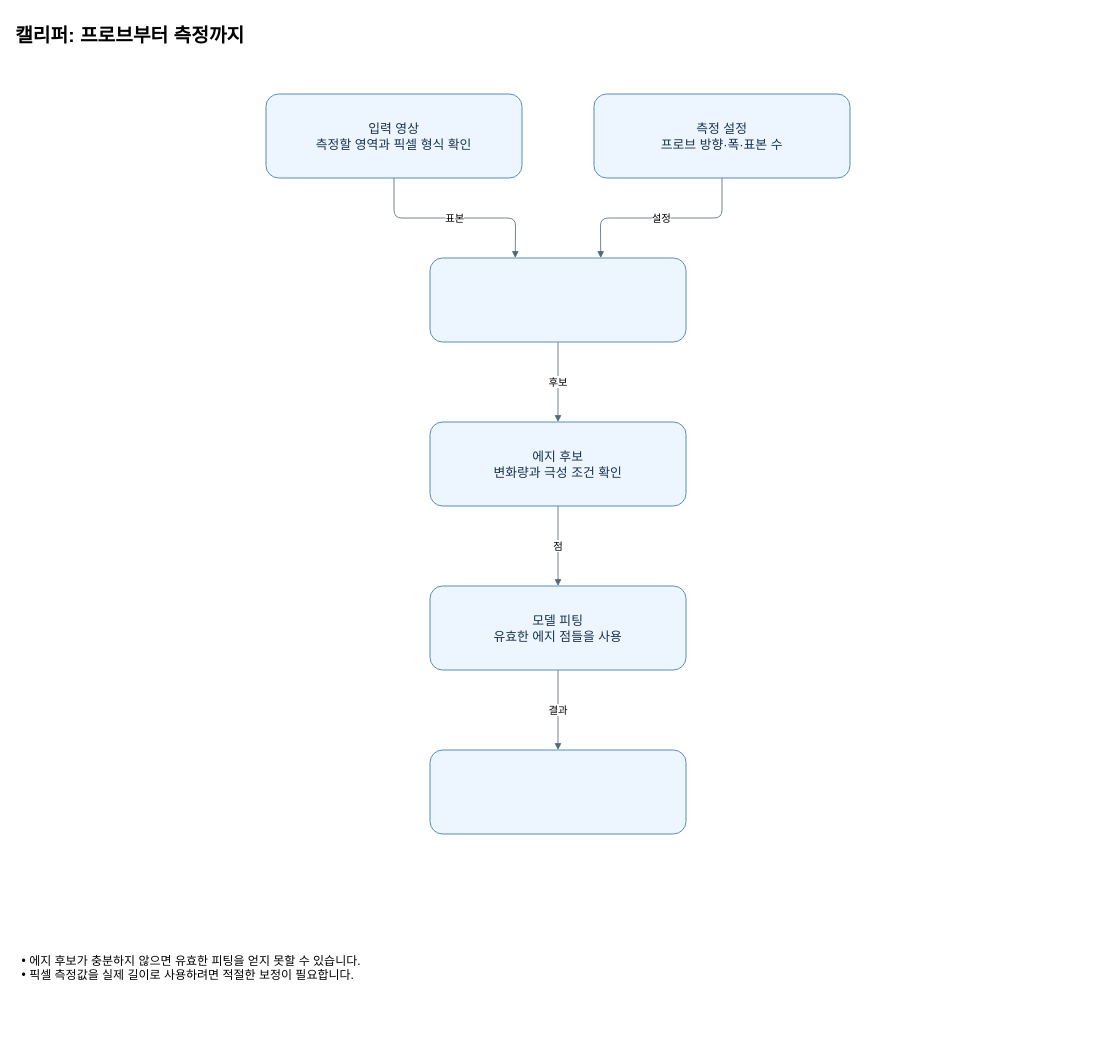
Image size: 1115x1051. Some labels were removed from this diagram. The shapes that lost their labels are listed below. From the top down, each one's centre as x and y in pixels, then its label:
(x=557, y=299): 프로파일 스트립의 밝기 분포 표본화
(x=557, y=791): 결과 판독 형상·잔차·유효 점 확인
